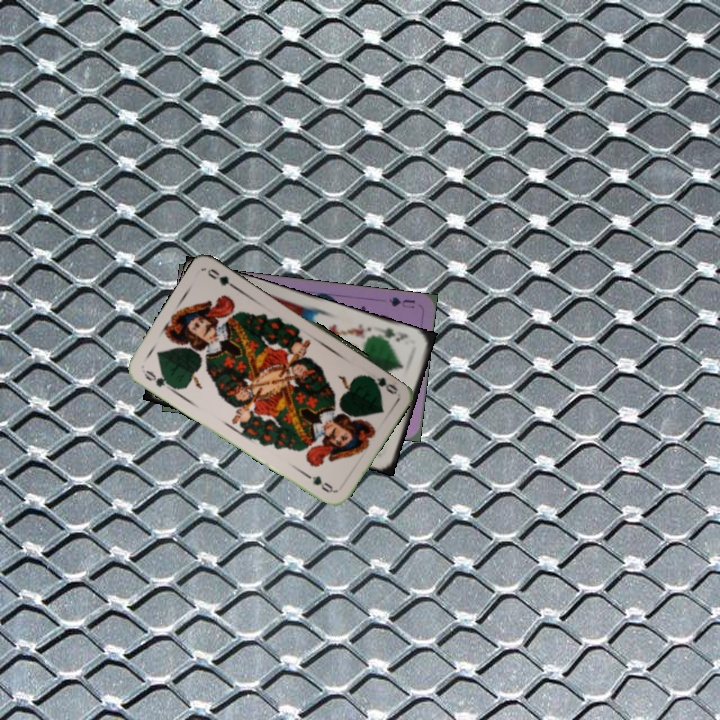GK: (376, 323, 411, 344)
GO: (139, 366, 176, 394), (361, 371, 400, 397)
GU: (385, 293, 417, 311)
